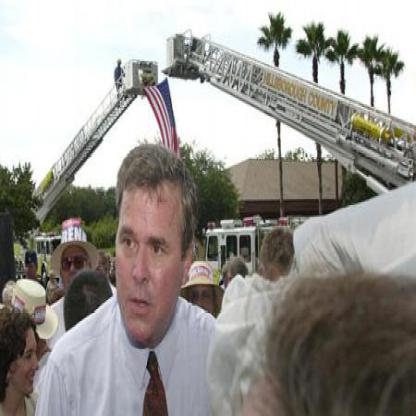face: (115, 150, 186, 346), (12, 313, 45, 396), (61, 234, 92, 300), (190, 265, 216, 328)
